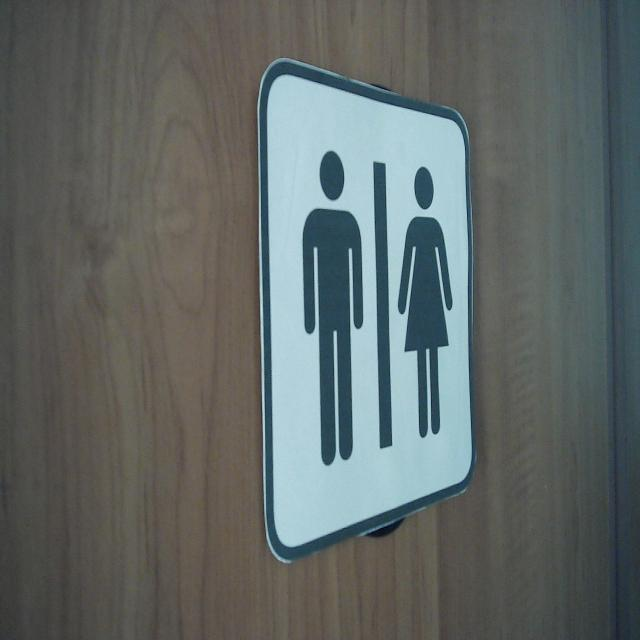restroom: (254, 51, 478, 568)
